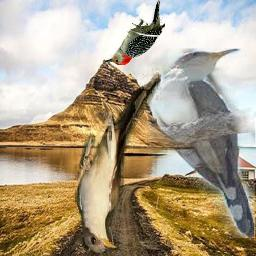Cuckoo: (147, 48, 255, 238), (75, 69, 161, 256)
Woodpecker: (105, 1, 166, 66)
